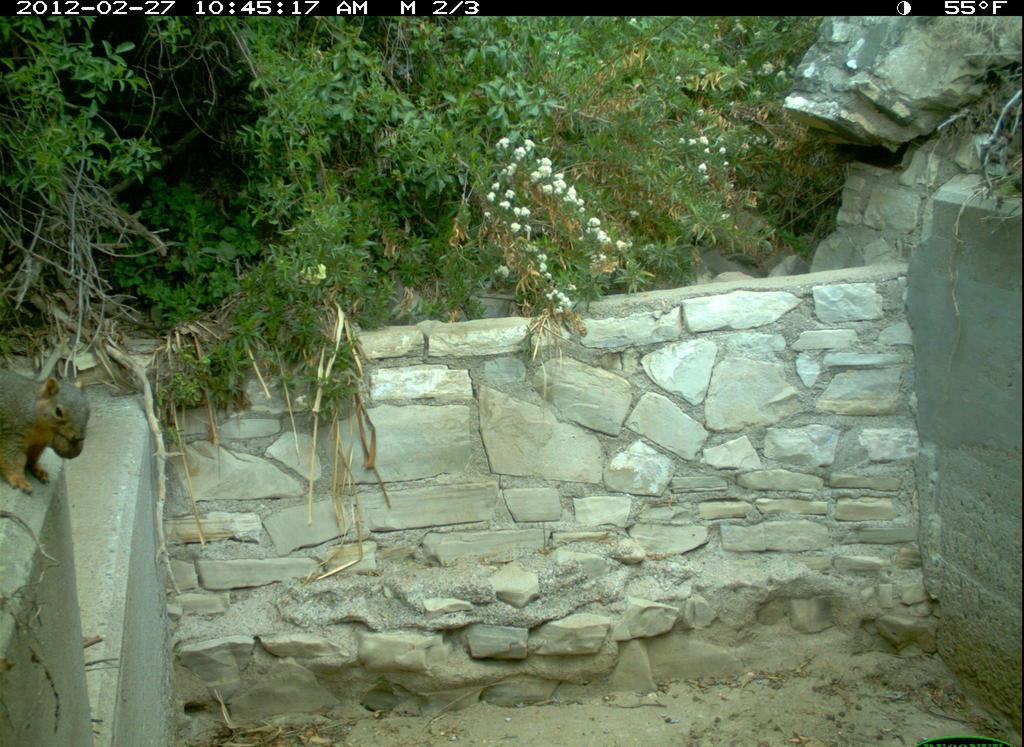squirrel: (1, 342, 94, 496)
